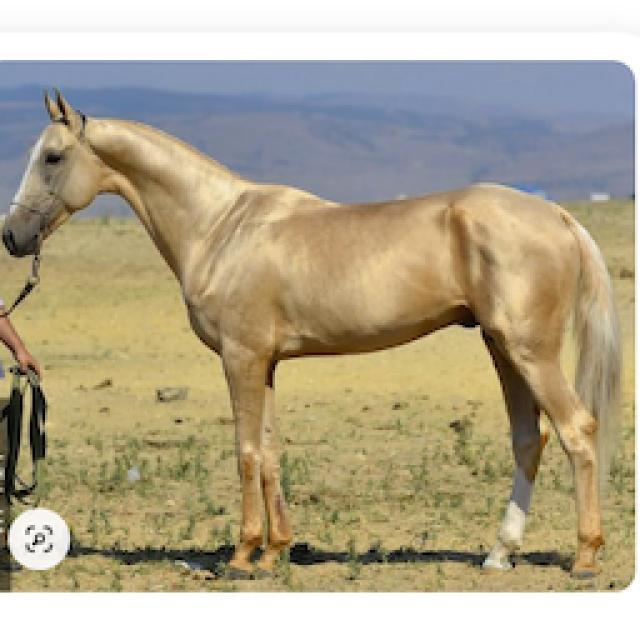Horse: (2, 85, 626, 580)
